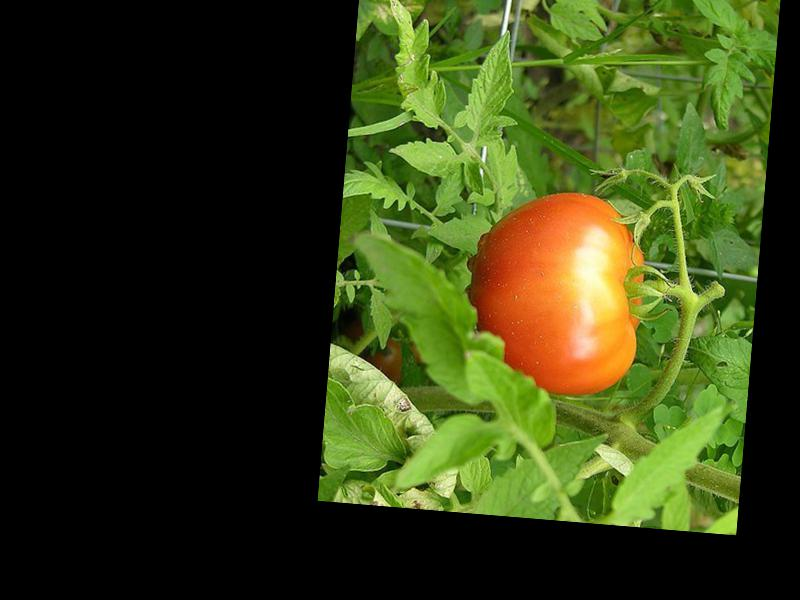Tomato: (465, 186, 651, 399)
